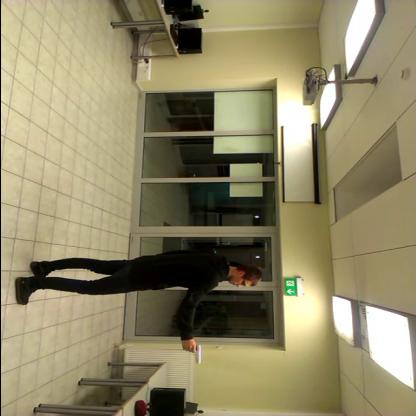Pistol: (182, 344, 206, 366)
